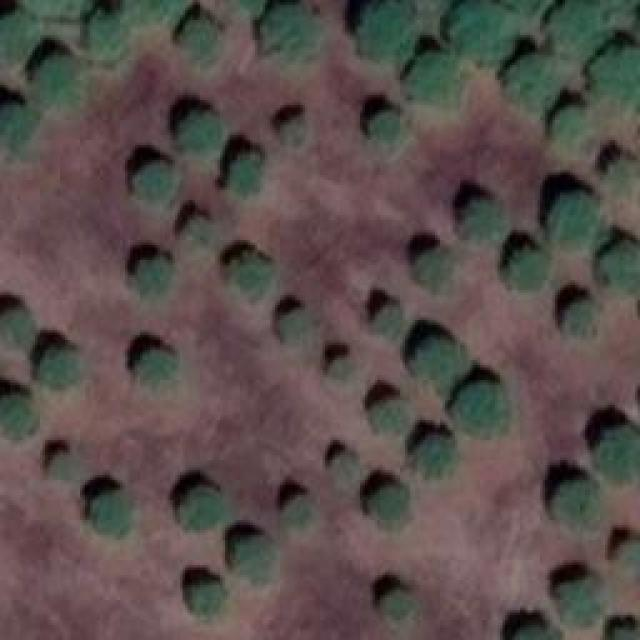Tree: (450, 0, 520, 62), (260, 2, 325, 61), (550, 0, 613, 58), (588, 44, 640, 112), (355, 8, 416, 63), (35, 48, 88, 109), (515, 58, 572, 112), (553, 198, 608, 252), (83, 10, 135, 65), (415, 340, 470, 391), (415, 55, 465, 111), (0, 5, 42, 65), (0, 100, 41, 161), (413, 243, 463, 293), (178, 18, 229, 66), (555, 478, 603, 526), (460, 385, 509, 432), (223, 248, 271, 295), (463, 200, 511, 247), (560, 575, 607, 622), (178, 115, 227, 160), (133, 165, 183, 209), (130, 255, 176, 301), (42, 348, 87, 395), (600, 425, 640, 477), (553, 105, 596, 153), (0, 393, 40, 444), (182, 485, 228, 529), (238, 535, 276, 588), (220, 153, 266, 196), (371, 482, 414, 528), (125, 0, 188, 30), (565, 297, 606, 343), (132, 348, 179, 388), (510, 250, 551, 295), (93, 493, 135, 536), (371, 110, 414, 150), (383, 585, 419, 630), (605, 248, 640, 293), (418, 435, 456, 476), (188, 578, 228, 615), (48, 450, 84, 491), (183, 208, 217, 251), (3, 308, 37, 351), (602, 157, 640, 195), (373, 398, 412, 435), (22, 0, 93, 20), (370, 300, 404, 336), (285, 493, 319, 529), (509, 617, 562, 640), (278, 308, 312, 343), (283, 118, 317, 152), (328, 356, 358, 384), (615, 537, 639, 569), (334, 453, 362, 480), (610, 622, 640, 640)
